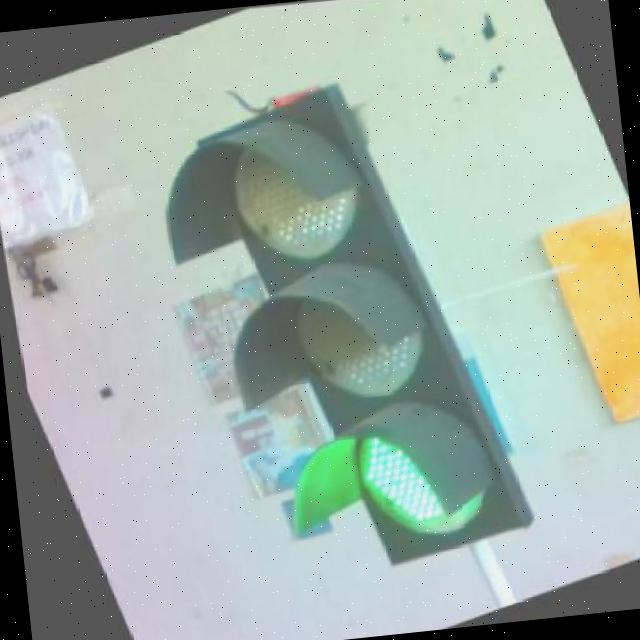green_light: (123, 68, 540, 616)
